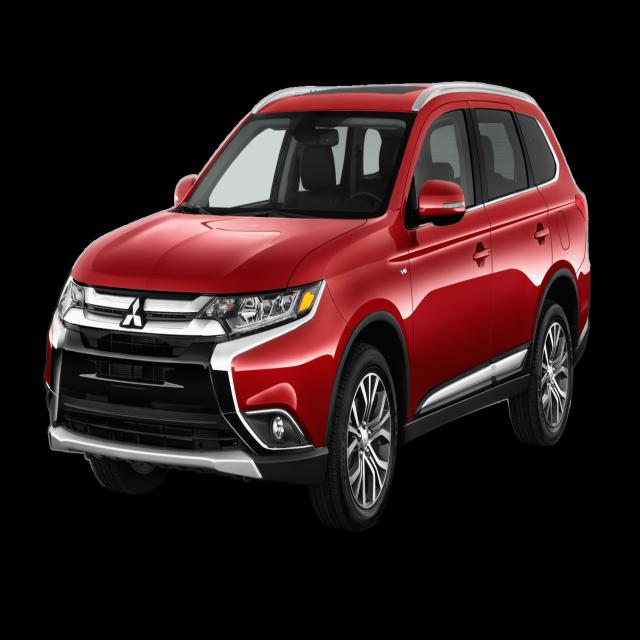light_vehicle: (43, 82, 591, 535)
